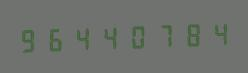eight: (179, 18, 205, 50)
four: (71, 21, 97, 53), (98, 20, 124, 52), (206, 17, 232, 49)
nine: (17, 23, 43, 55)
seven: (152, 19, 178, 51)
six: (44, 22, 70, 54)
zero: (125, 19, 151, 52)
